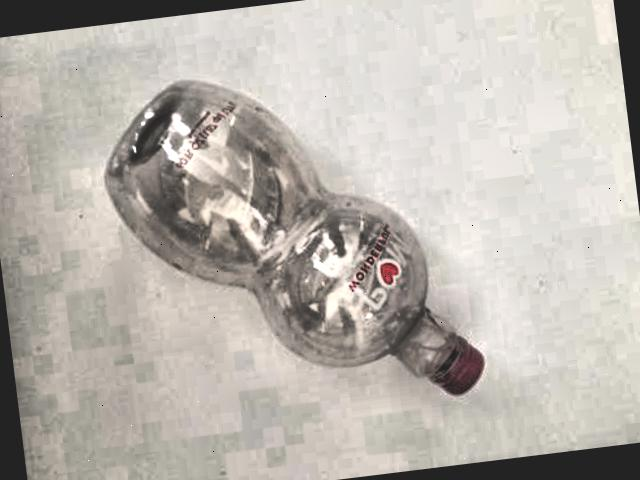Bottles: (75, 34, 494, 446)
